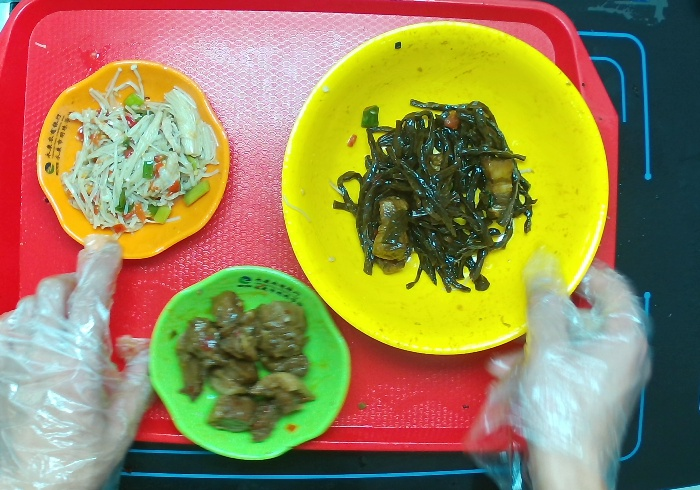YKMZ-Huang_Se_Tang_Wan: (279, 20, 614, 355)
YKMZ-Ju_Se_Ao_Bian_Wan: (35, 60, 231, 262)
YKMZ-Lv_Se_Ao_Bian_Wan: (150, 268, 354, 468)
